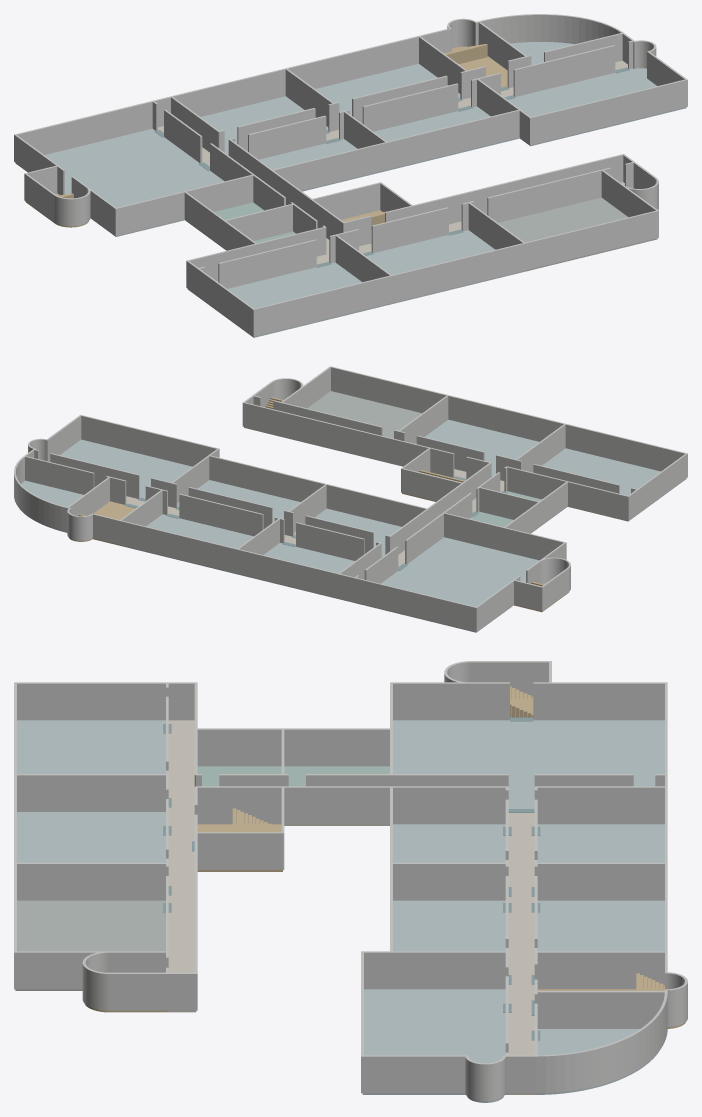
The model's file is mingde-6F.glb.
3 renders of one model, top to bottom at view 1: azimuth 30°, elevation 25°; view 2: azimuth 150°, elevation 25°; view 3: azimuth 270°, elevation 25°, orthographic. The views are drawn at different scales.
Parts seen in each view (by area): view 1: floor_5, floor_5_stairs-northeast_step9; view 2: floor_5; view 3: floor_5.
Part boxes in pixels (x1,y1,x2,y2): floor_5: [14, 14, 687, 337]; floor_5_stairs-northeast_step9: [445, 44, 487, 63]; floor_5: [14, 366, 687, 632]; floor_5: [14, 661, 687, 1102].
Size of the model in its own units: 66 by 2.98 by 46.6.
